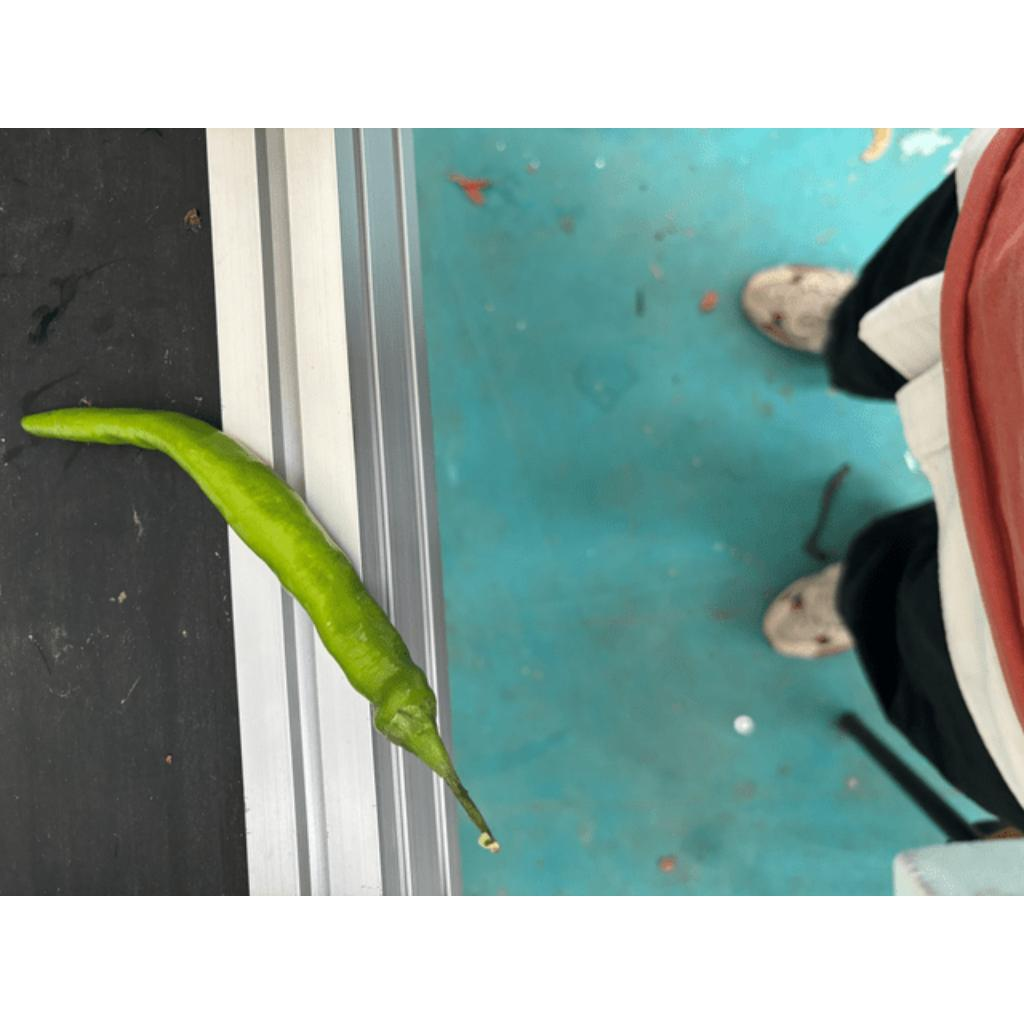chili: (17, 402, 442, 758)
